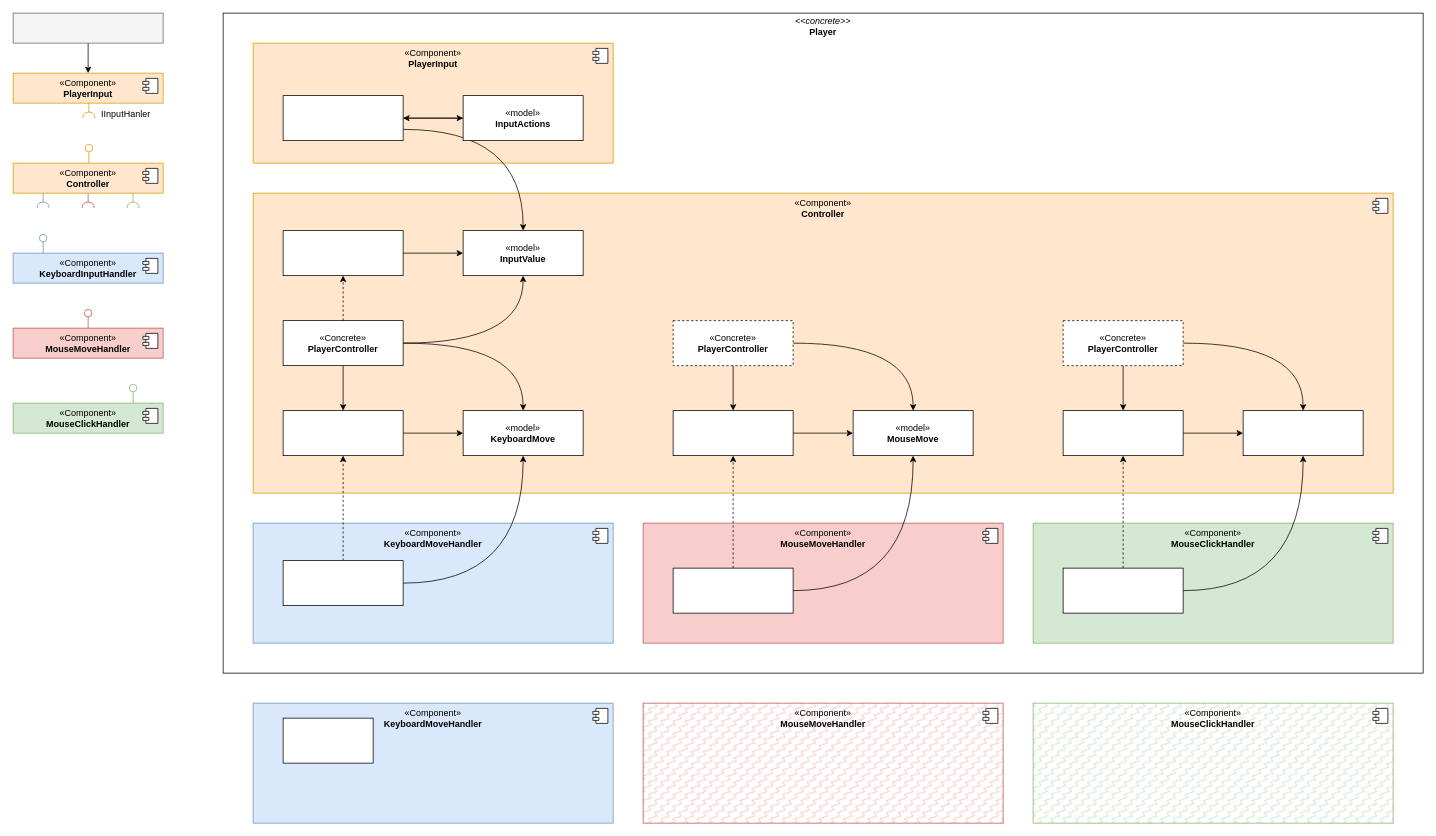
This 1436x836 diagram has some shape labels left out. The box of each missing label's shape, as (x1, y1, x2, y2) in pixels:
Users : Input: (12, 12, 163, 43)
«Concrete» GridMovement: (282, 717, 373, 763)
«Concrete» PlayerInput: (282, 95, 403, 141)
«Concrete» SmoothMovement: (282, 560, 403, 606)
«Concrete» TopDownAimRotation: (672, 567, 793, 613)
«Concrete» TopDownShooting: (1062, 567, 1183, 613)
«Interface» IInputHandler: (282, 230, 403, 276)
«Interface» IKeyboardInputHandler: (282, 410, 403, 456)
«Interface» IMouseClickHandler: (1062, 410, 1183, 456)
«Interface» IMouseMoveHandler: (672, 410, 793, 456)
«model» MouseClick: (1242, 410, 1363, 456)
